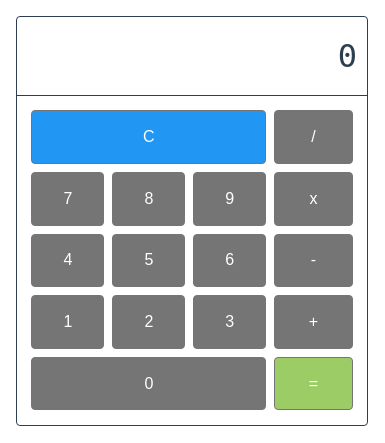
Scenario: renders correct result when second operation is entered
Click the button with test id "1" at (68, 322), box top-left (31, 295), bottom-right (104, 349)
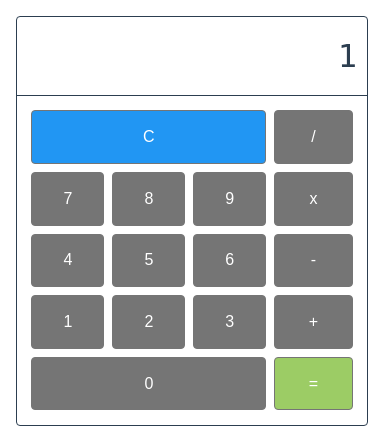
Click the button with test id "+" at (313, 322), box top-left (274, 295), bottom-right (353, 349)
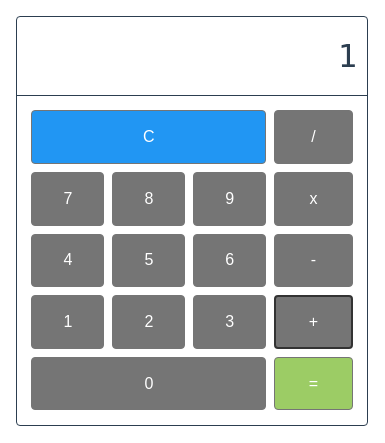
Click the button with test id "2" at (149, 322), box top-left (112, 295), bottom-right (185, 349)
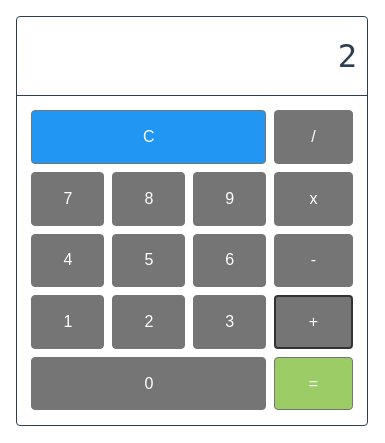
Click the button with test id "+" at (313, 322), box top-left (274, 295), bottom-right (353, 349)
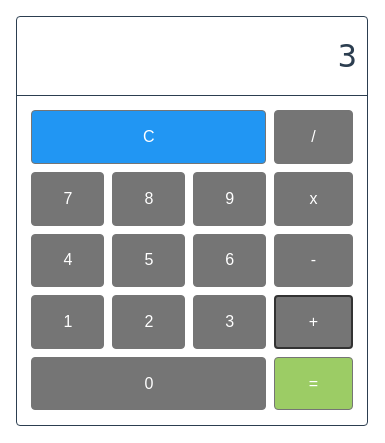
Result: the text with test id "displayValue" reads "3" at top-left (338, 37), bottom-right (357, 75)
Click the button with test id "2" at (149, 322), box top-left (112, 295), bottom-right (185, 349)
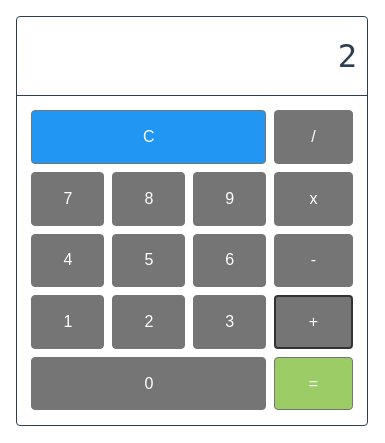
Click the button with test id "=" at (313, 384), box top-left (274, 357), bottom-right (353, 410)
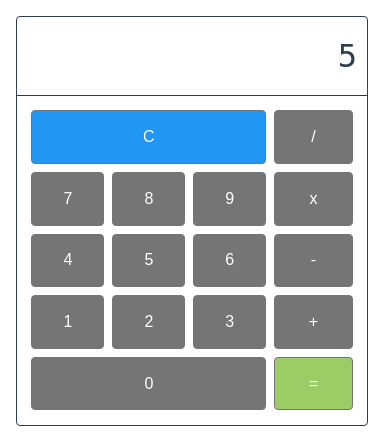
Result: the text with test id "displayValue" reads "5" at top-left (338, 37), bottom-right (357, 75)
